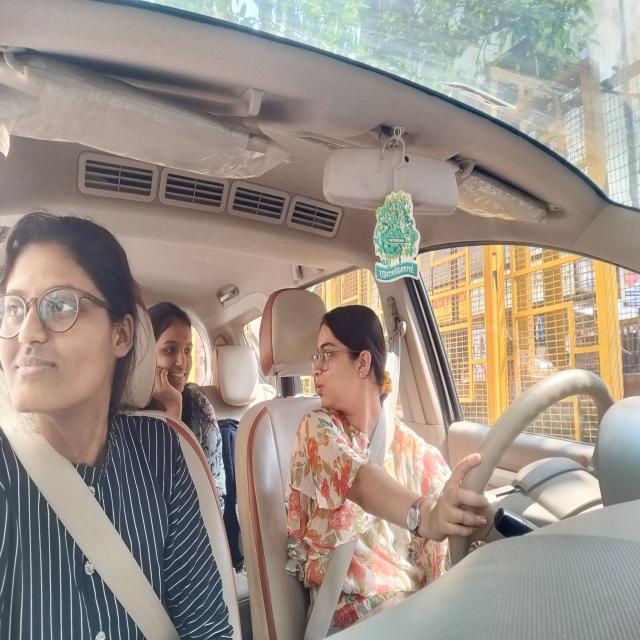LeftRight: (314, 302, 390, 420)
person: (0, 211, 138, 426), (151, 297, 201, 400)
